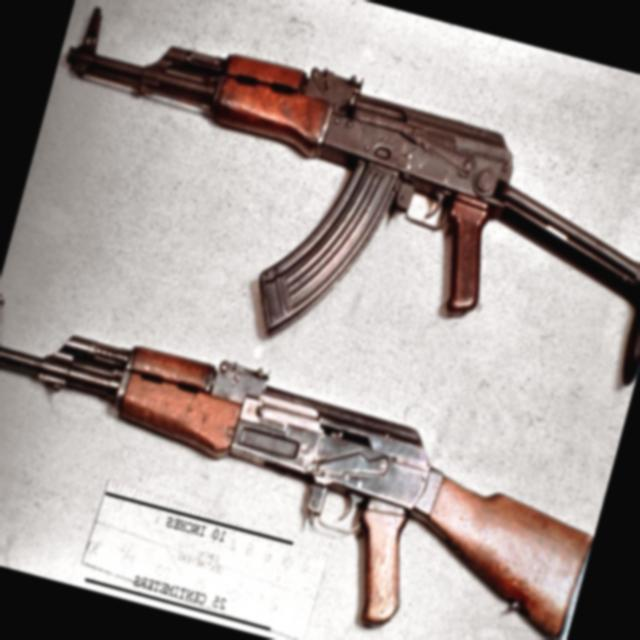ak: (6, 0, 640, 434), (0, 287, 608, 640)
